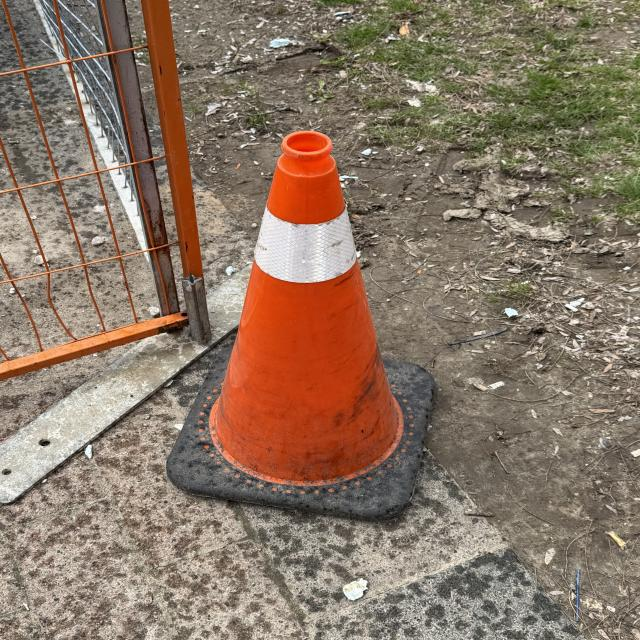Traffic Cone: (165, 128, 439, 520)
